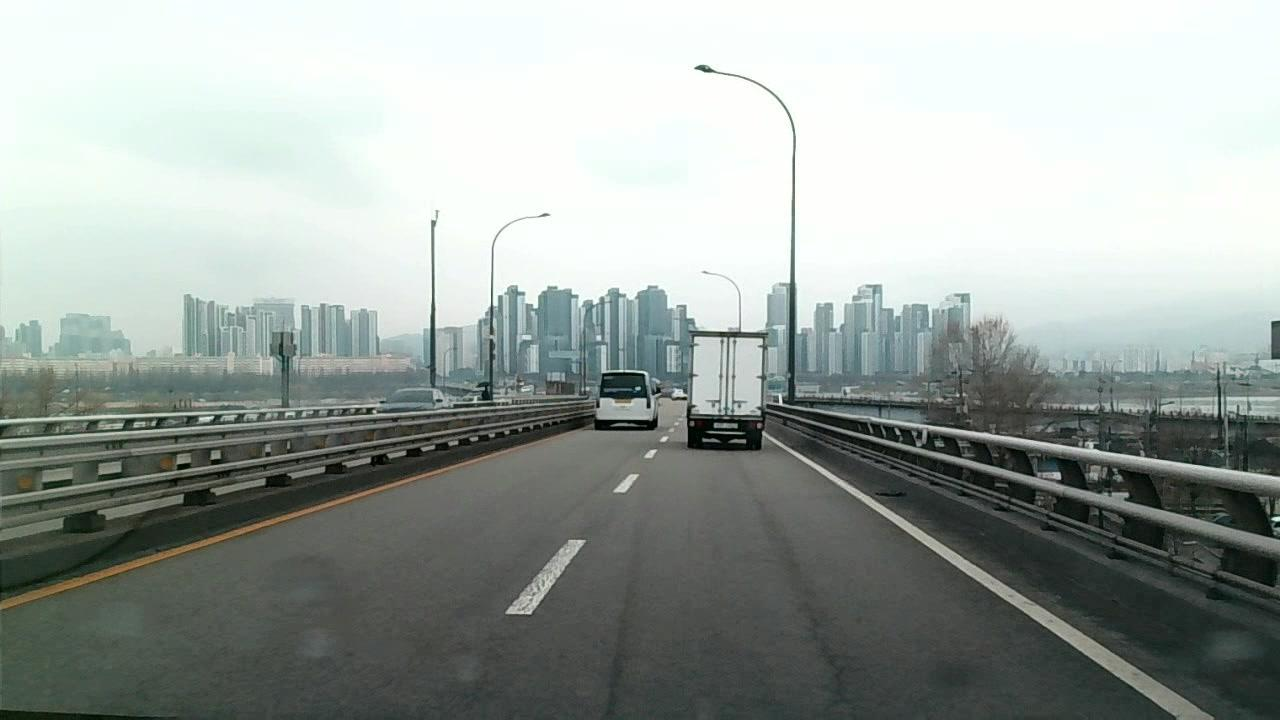banner: (780, 551, 849, 703)
